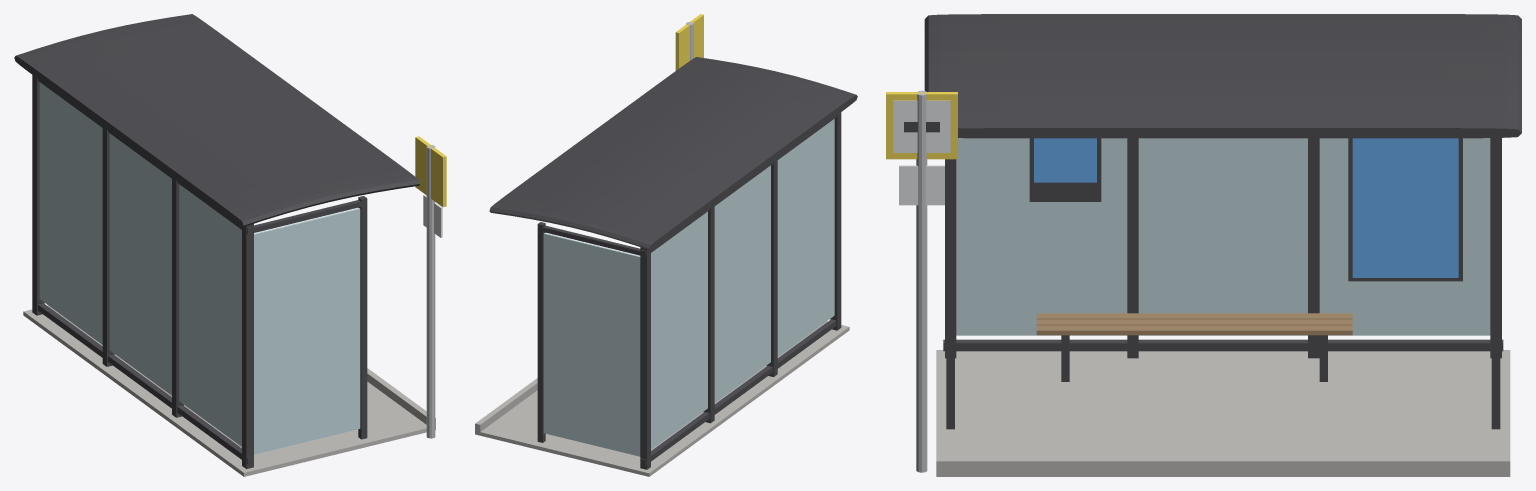
Rendered from SM_Prop_BusStop.fbx.
The picture shows the model from 3 angles, left to right: view 1: azimuth 30°, elevation 25°; view 2: azimuth 150°, elevation 25°; view 3: azimuth 270°, elevation 25°; orthographic projection. The views are drawn at different scales.
Visible parts, largest first — view 1: SM_Prop_BusStop; view 2: SM_Prop_BusStop; view 3: SM_Prop_BusStop.
Part boxes in pixels (left/top/right/bottom): SM_Prop_BusStop: left=14, top=14, right=446, bottom=476; SM_Prop_BusStop: left=475, top=14, right=857, bottom=476; SM_Prop_BusStop: left=886, top=14, right=1521, bottom=476.
Bounding box in the file's own units: 4.43 × 2.06 × 2.9.
